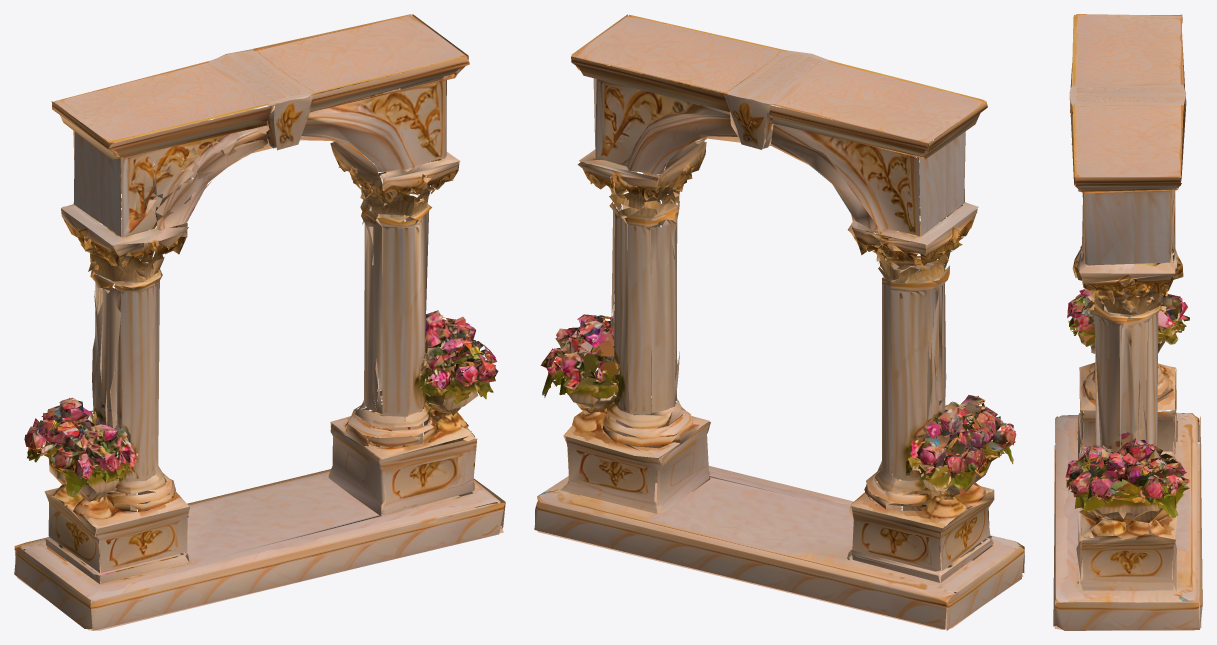
The model's file is hunyuan-arch-mobile.glb.
3 renders of one model, left to right at view 1: azimuth 30°, elevation 25°; view 2: azimuth 150°, elevation 25°; view 3: azimuth 270°, elevation 25°, orthographic. The views are drawn at different scales.
Visible parts, largest first — view 1: textured.obj; view 2: textured.obj; view 3: textured.obj.
Boxes of the visible parts, x1=… form: textured.obj: x1=14, y1=14, x2=505, y2=630; textured.obj: x1=534, y1=14, x2=1024, y2=630; textured.obj: x1=1053, y1=14, x2=1202, y2=630.
Bounding box in the file's own units: 3.81 × 3.93 × 1.2.
1 material, 1 textured.
